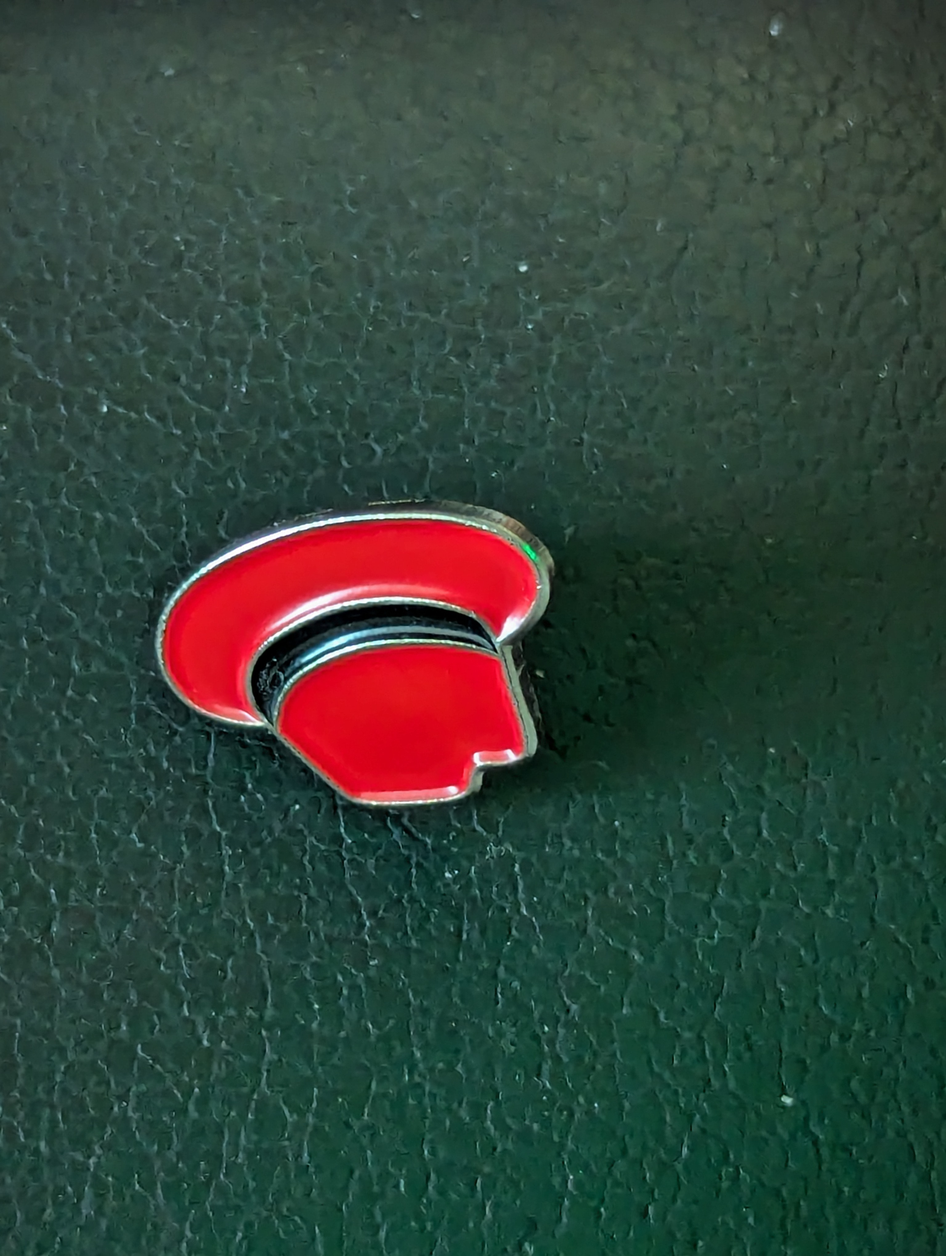Red-Hat: (79, 430, 729, 972)
